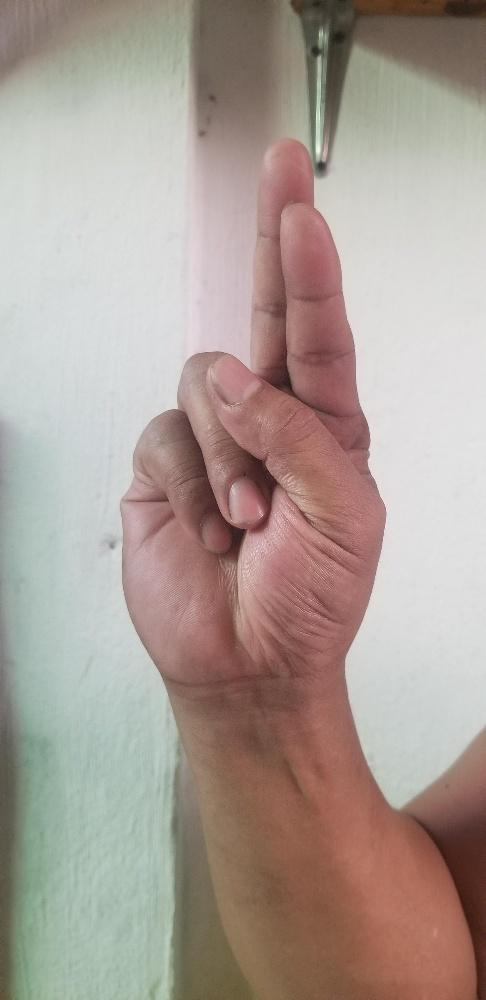r: (118, 133, 389, 677)
